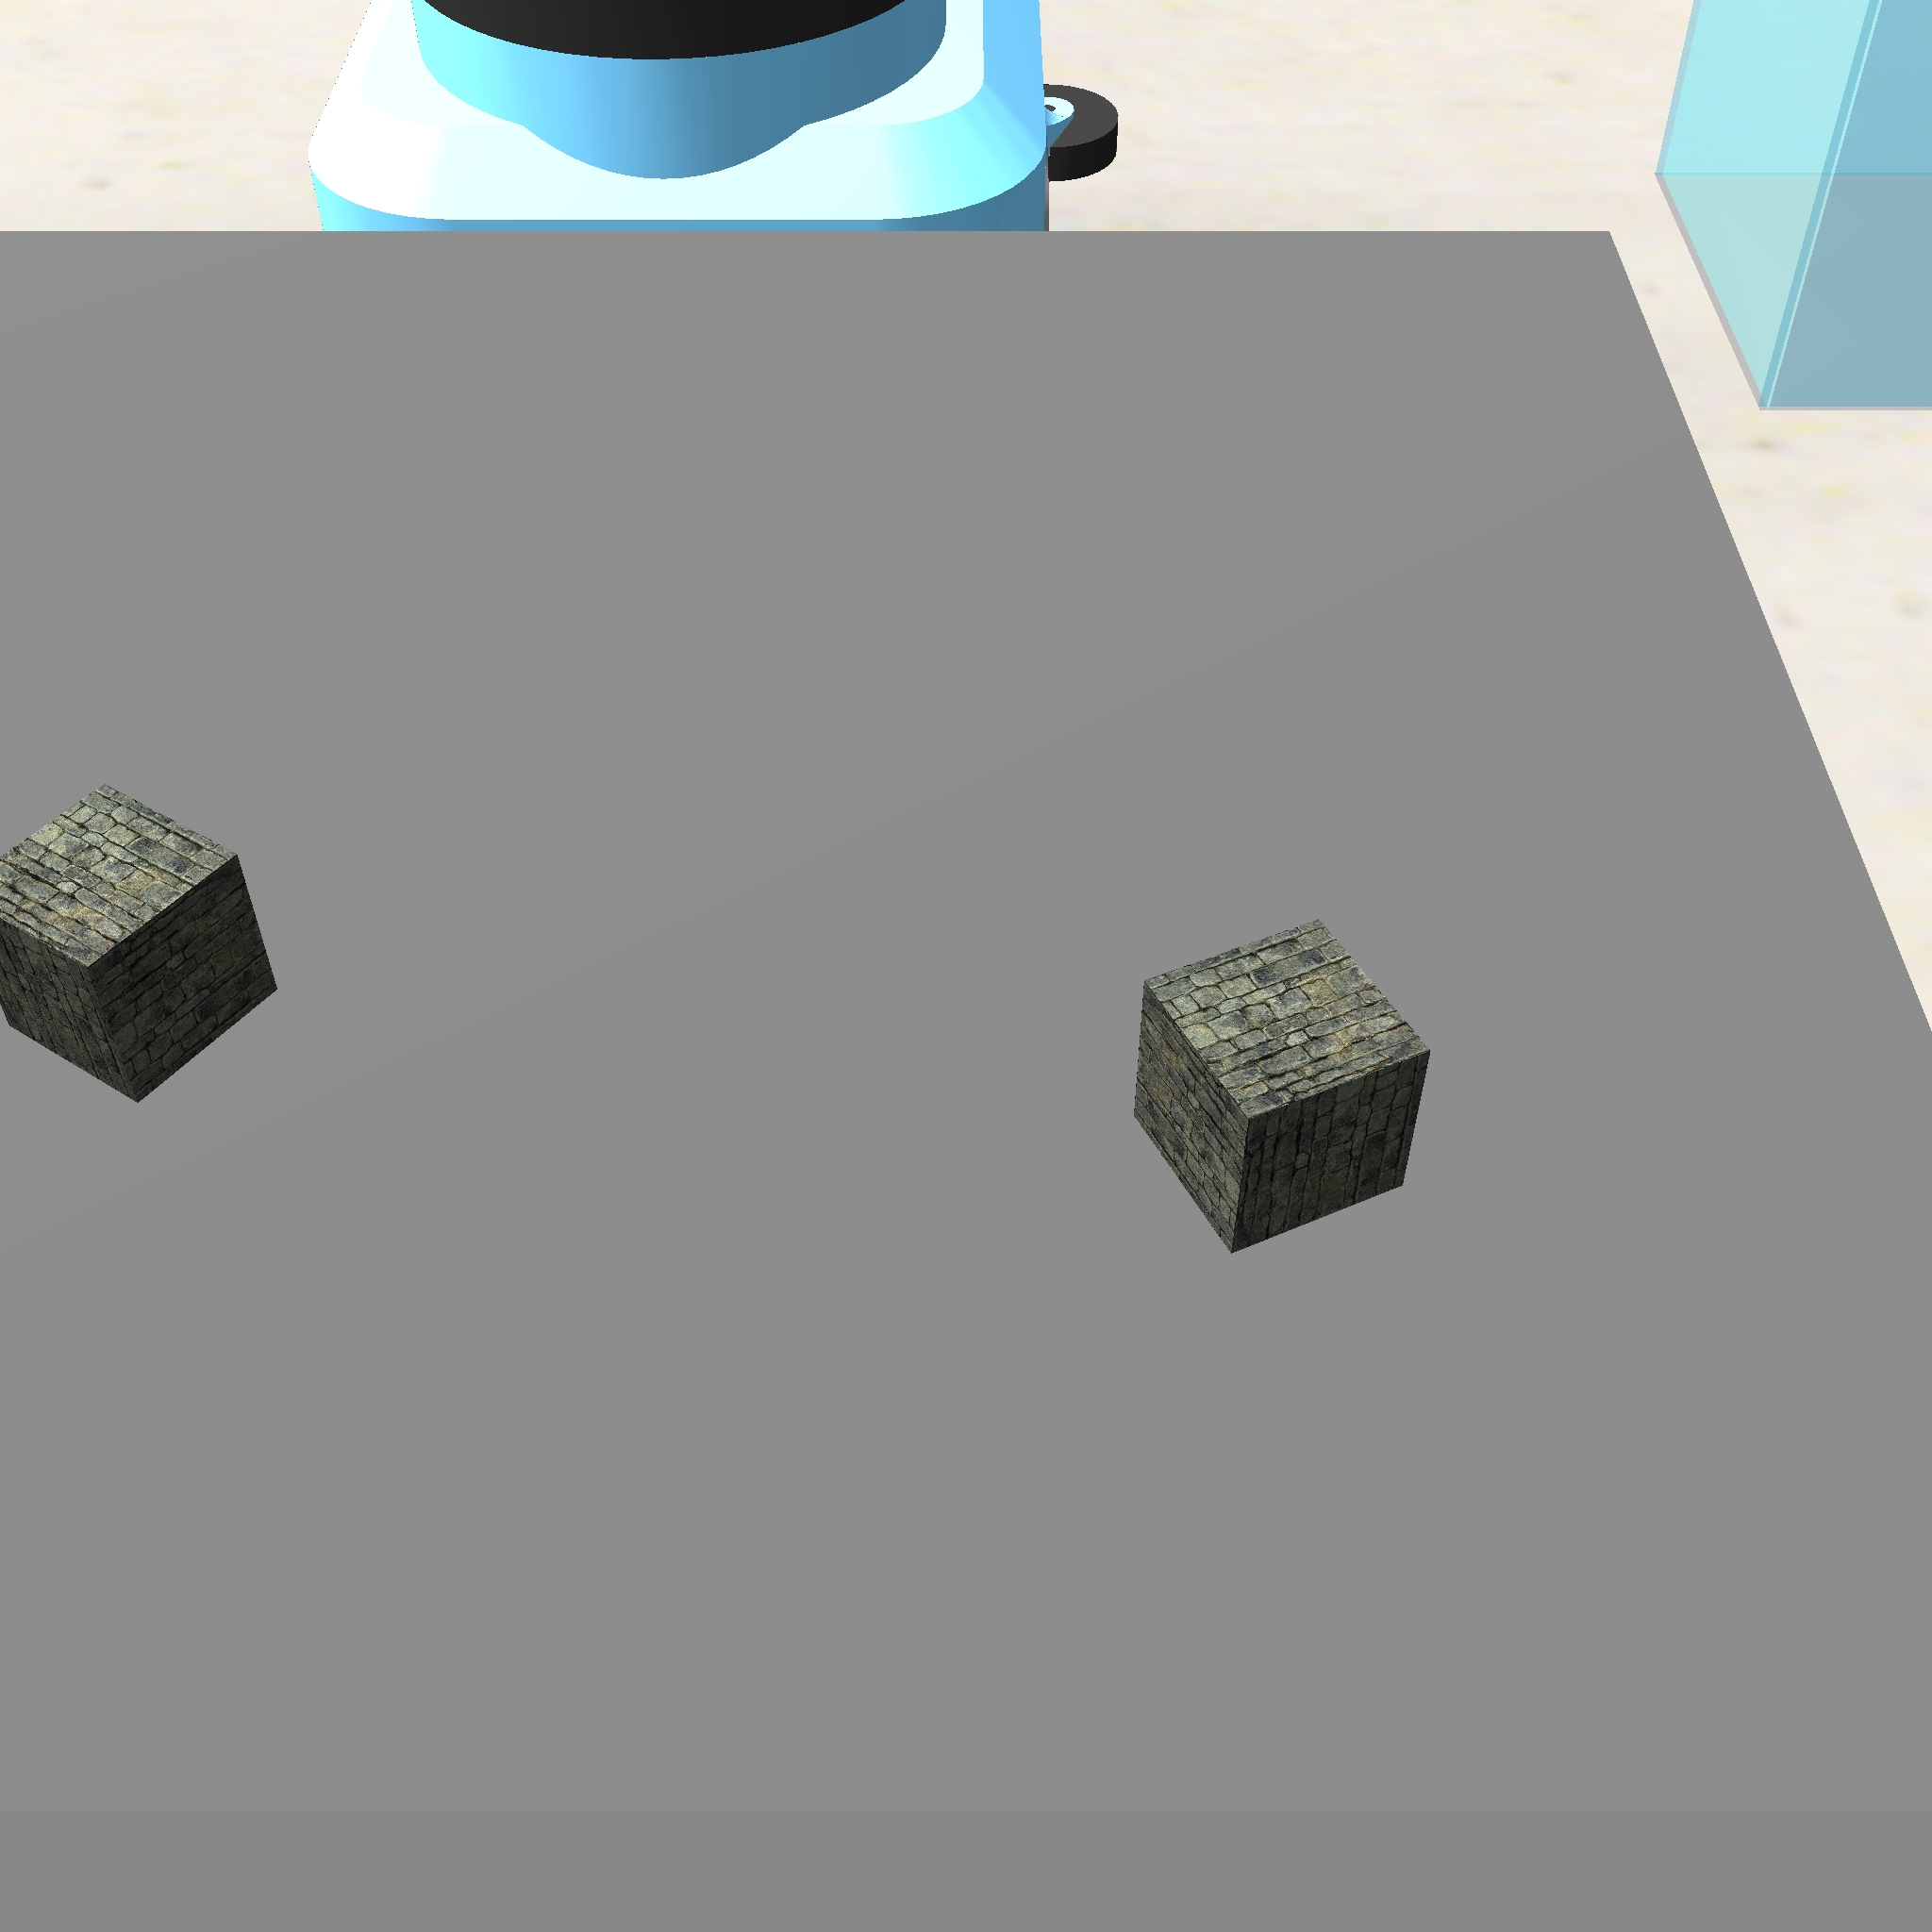cube: (1127, 911, 1442, 1260), (0, 775, 294, 1108)
